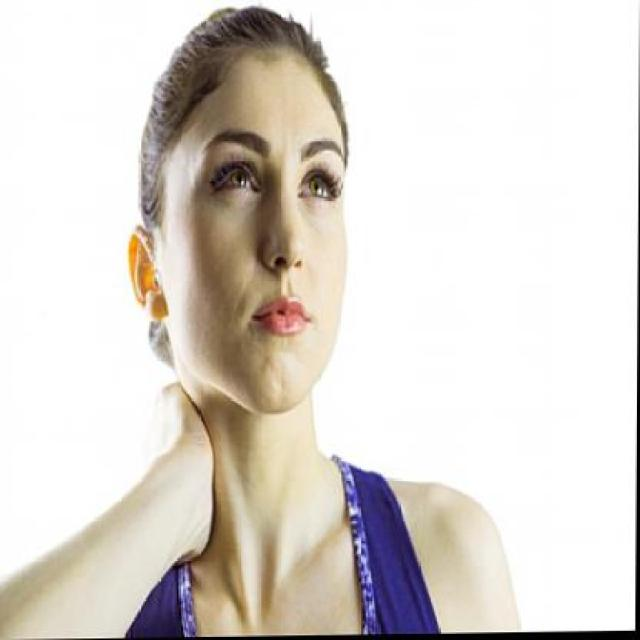Healthy: (185, 381, 352, 617)
